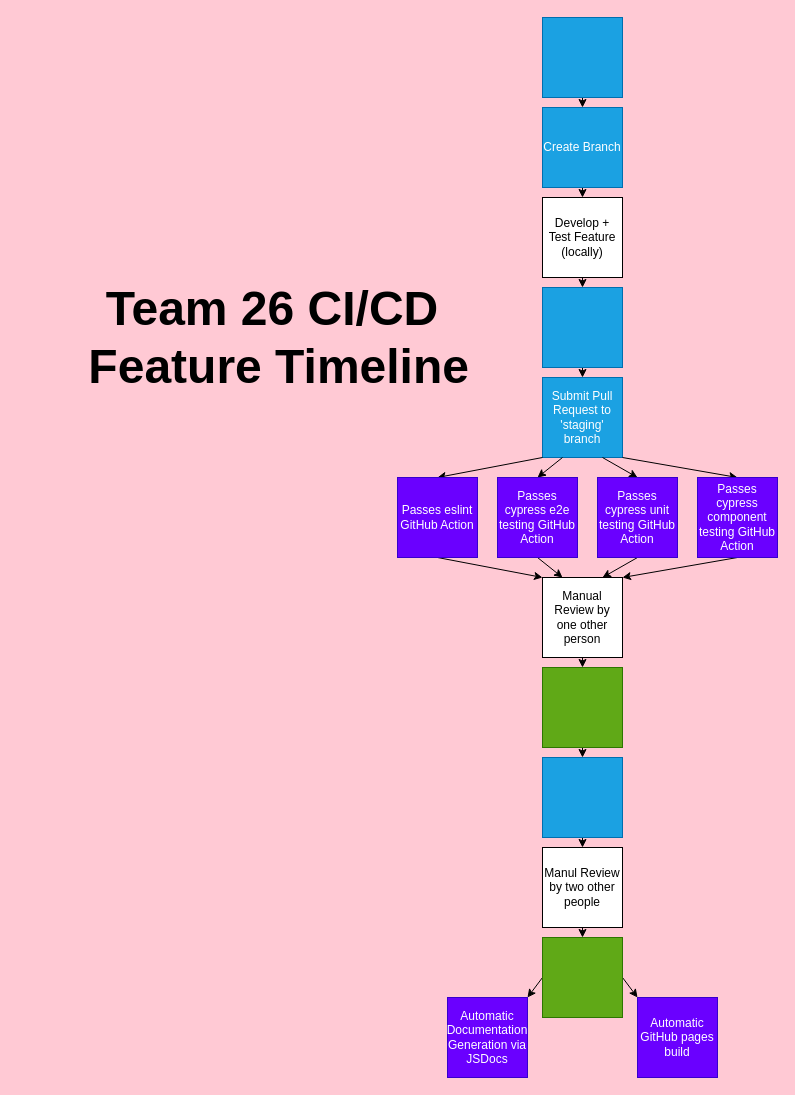
This 795x1095 diagram has some shape labels left out. The shapes that lost their labels are listed below. From the top down, each one's box as (x1, y1, x2, y2) in pixels, then its label:
(542, 16, 622, 98): Create GitHub Issue
(542, 286, 622, 368): Push onto remote feature branch
(542, 666, 622, 748): Succesful Merge onto staging
(542, 756, 622, 838): Submit Pull Request to Main
(542, 936, 622, 1018): Merged into Main
